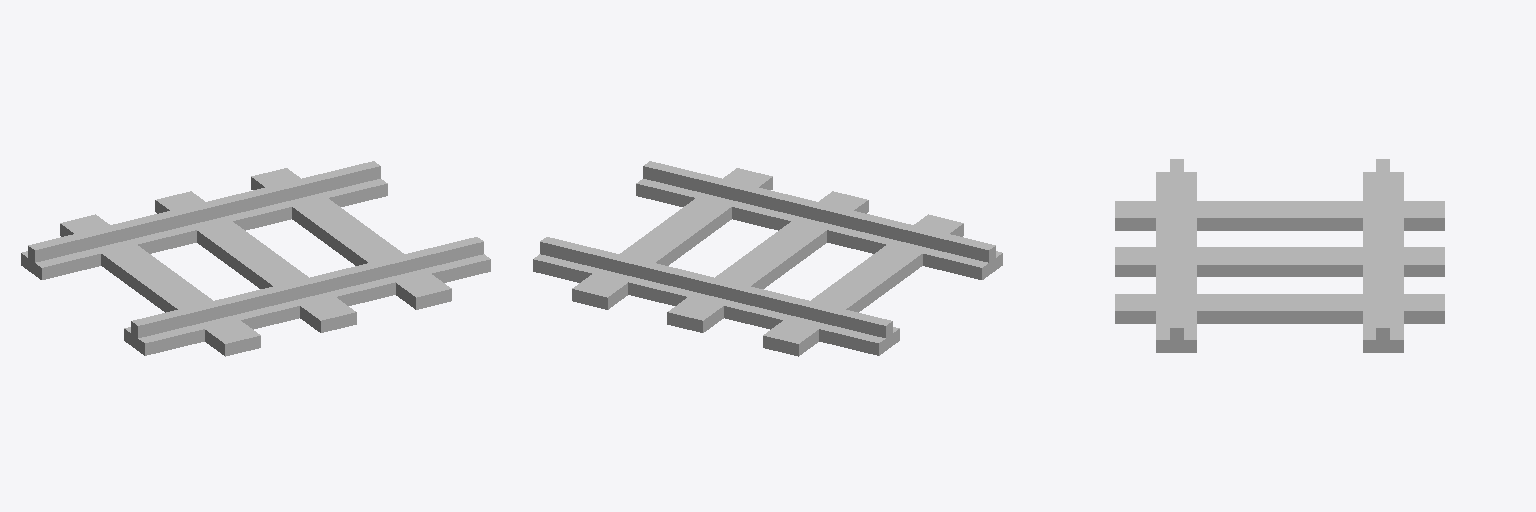
The model's file is rail.obj.
3 views of the same model, side by side, from view 1: azimuth 30°, elevation 25°; view 2: azimuth 150°, elevation 25°; view 3: azimuth 270°, elevation 25° (orthographic).
Parts seen in each view (by area): view 1: object 1; view 2: object 1; view 3: object 1.
Boxes of the visible parts, <box> form: object 1: <box>21,161,490,356</box>; object 1: <box>533,161,1002,356</box>; object 1: <box>1115,159,1444,352</box>.
Size of the model in its own units: 2.9 by 0.2 by 2.4.